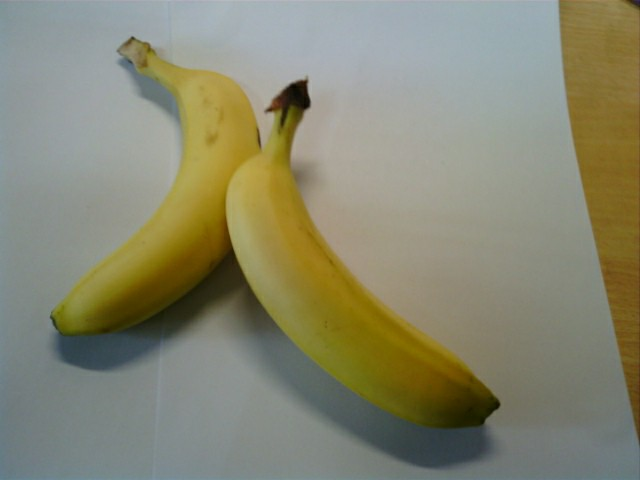fresh_banana: (227, 134, 497, 431), (51, 57, 262, 338)
